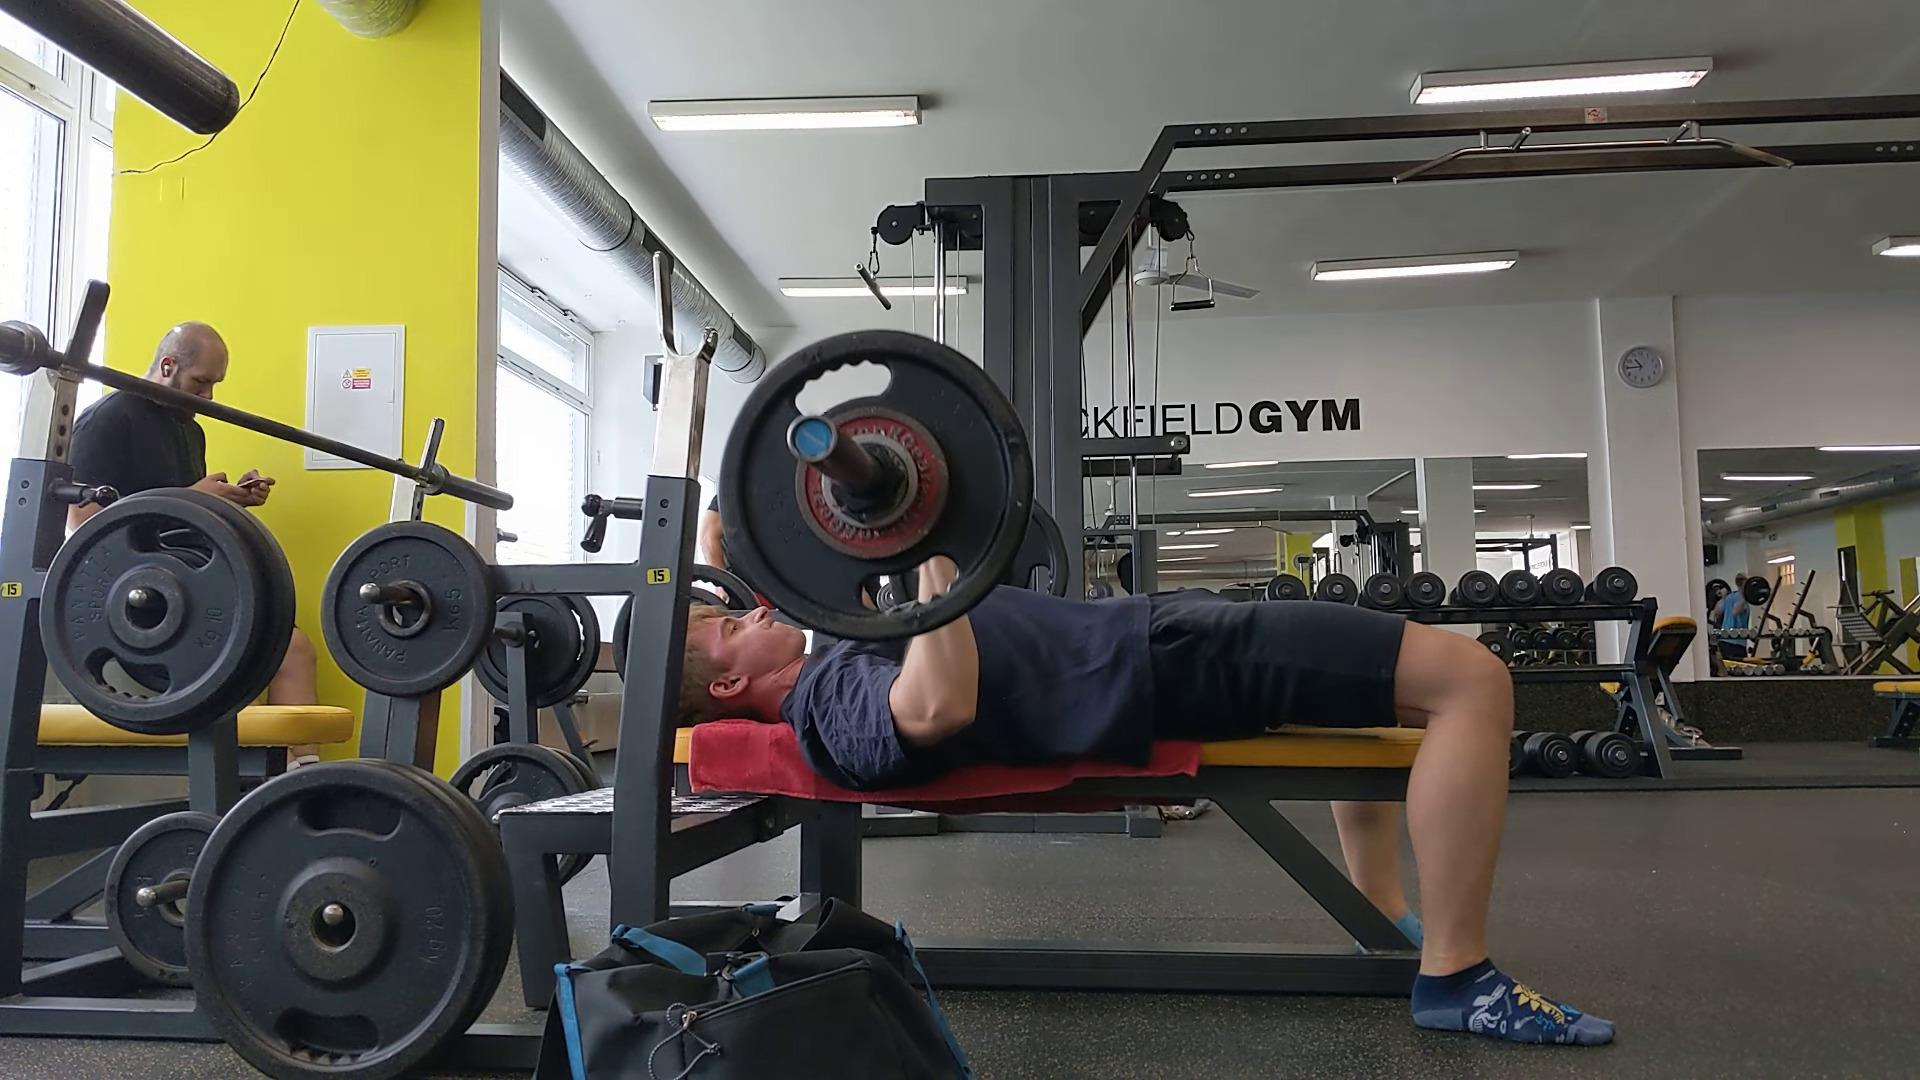barbell: (717, 330, 1033, 641), (1705, 578, 1730, 609), (1742, 576, 1768, 605)
